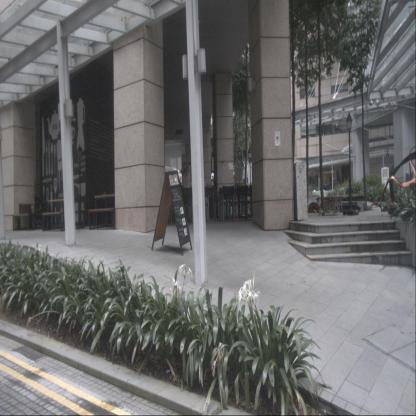human-pedestrian-adult: (35, 195, 43, 228)
